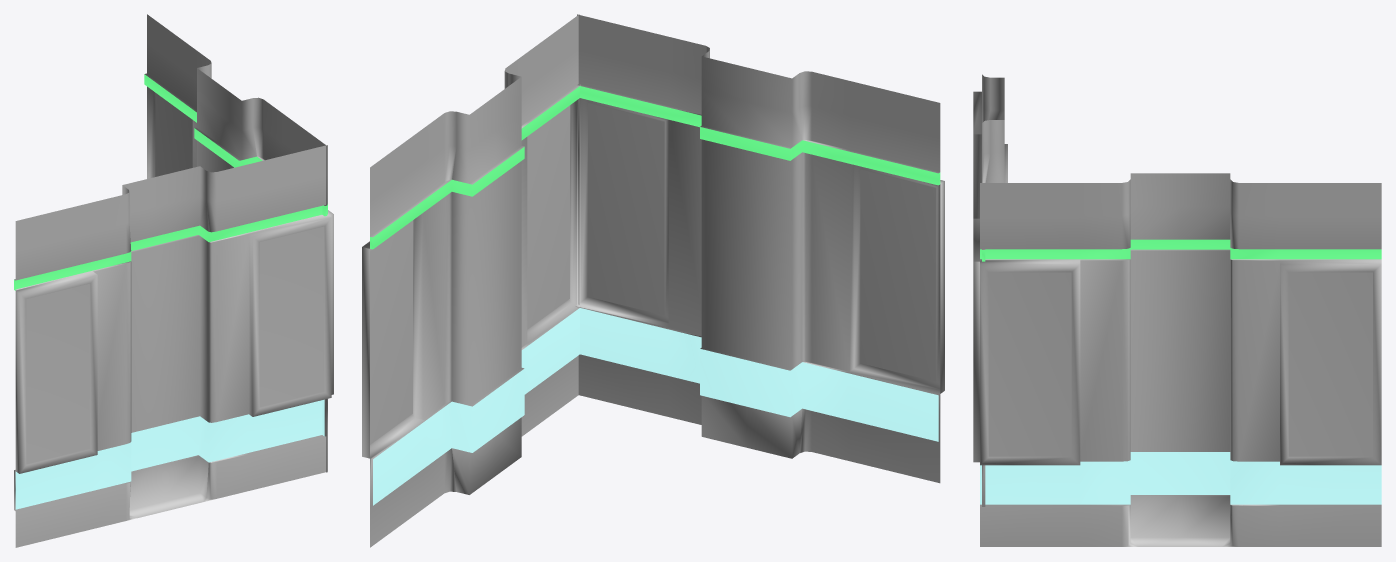
Rendered from sm_wall_corner.glb.
3 renders of one model, left to right at view 1: azimuth 30°, elevation 25°; view 2: azimuth 150°, elevation 25°; view 3: azimuth 270°, elevation 25°, orthographic. The views are drawn at different scales.
Parts seen in each view (by area): view 1: Wall_Corner; view 2: Wall_Corner; view 3: Wall_Corner.
Part boxes in pixels (x1,y1,x2,y2): Wall_Corner: (14,14,333,547); Wall_Corner: (362,14,944,547); Wall_Corner: (973,74,1381,546).
Bounding box in the file's own units: 2.03 × 2 × 2.03.
